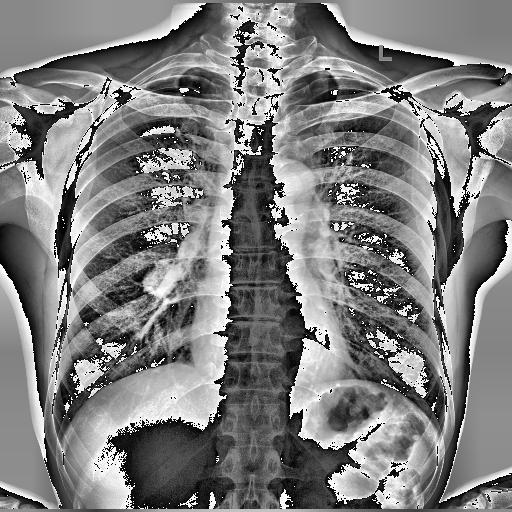11- Pleural thickening: (330, 68, 390, 90)
8- Nodule-Mass: (142, 260, 184, 298), (140, 262, 178, 296), (144, 264, 178, 295), (176, 127, 180, 138)
9- Other lesion: (176, 127, 180, 138)
